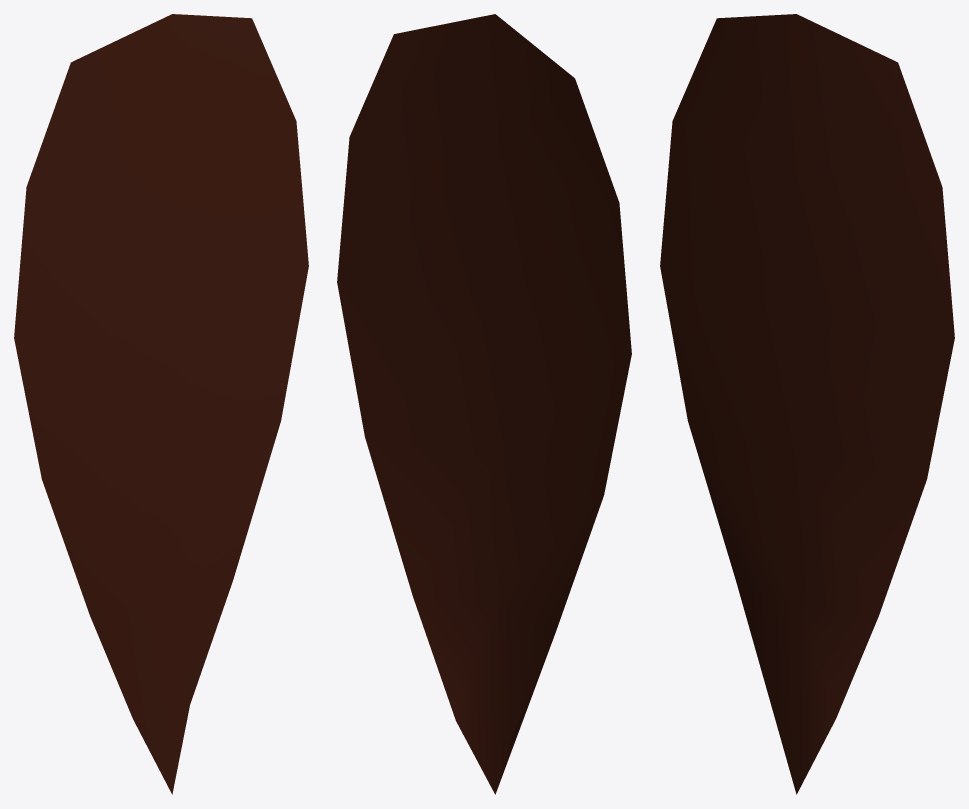
The model's file is rooster_feather_flight_tertiary_001.obj.
3 views of the same model, side by side, from view 1: azimuth 30°, elevation 25°; view 2: azimuth 150°, elevation 25°; view 3: azimuth 330°, elevation 25° (orthographic).
Visible parts, largest first — view 1: feather_flight_tertiary_001; view 2: feather_flight_tertiary_001; view 3: feather_flight_tertiary_001.
Part boxes in pixels (x1=…): feather_flight_tertiary_001: x1=14, y1=14, x2=308, y2=794; feather_flight_tertiary_001: x1=337, y1=14, x2=631, y2=794; feather_flight_tertiary_001: x1=660, y1=14, x2=954, y2=794.
Bounding box in the file's own units: 0.00786 × 0.0199 × 0.000502.
